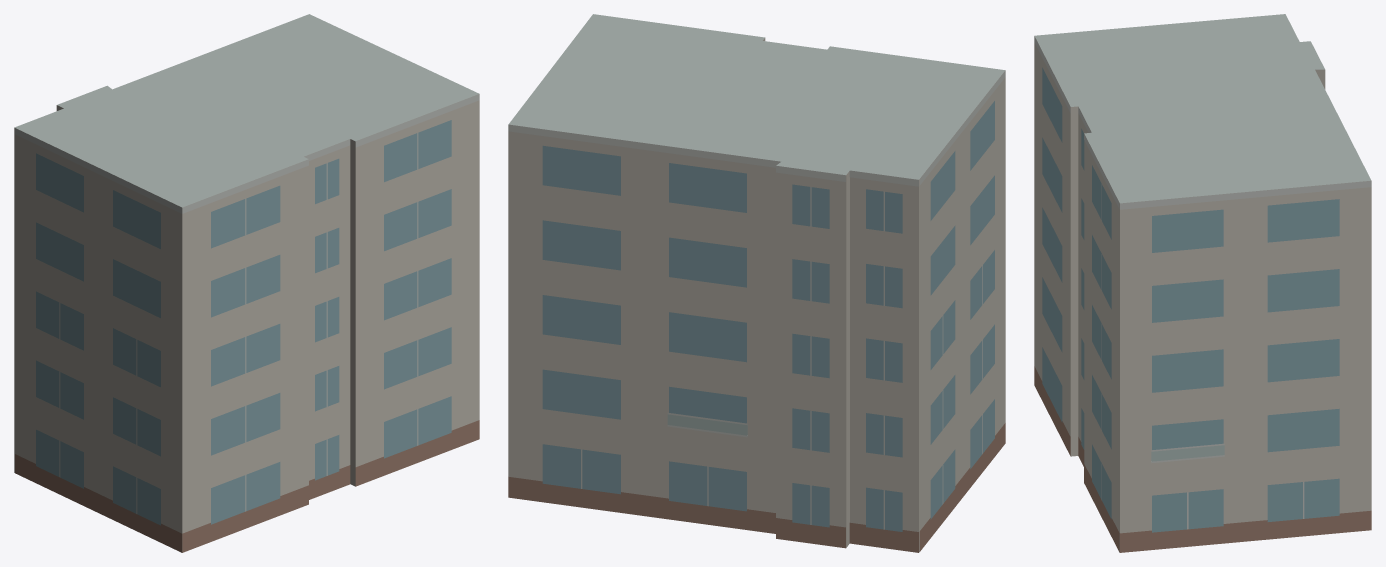
The model's file is survey-upis-32907304.glb.
3 views of the same model, side by side, from view 1: azimuth 30°, elevation 25°; view 2: azimuth 150°, elevation 25°; view 3: azimuth 270°, elevation 25° (orthographic). The views are drawn at different scales.
Parts seen in each view (by area): view 1: survey-upis-32907304.tmp; view 2: survey-upis-32907304.tmp; view 3: survey-upis-32907304.tmp.
Boxes of the visible parts, bbox=[...] form: survey-upis-32907304.tmp: bbox=[14, 14, 479, 552]; survey-upis-32907304.tmp: bbox=[508, 14, 1005, 552]; survey-upis-32907304.tmp: bbox=[1034, 14, 1371, 552].
Bounding box in the file's own units: 15.47 × 13.3 × 11.64.
